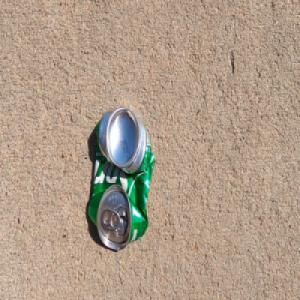SodaCan: (87, 106, 155, 252)
